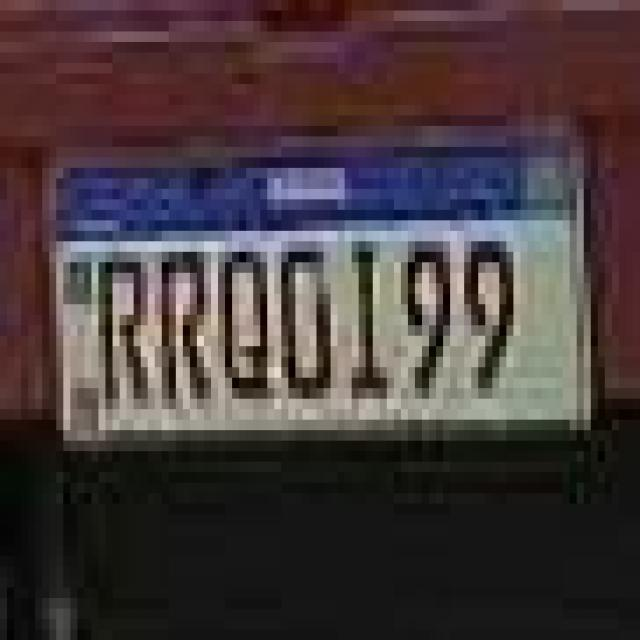0: (277, 242, 338, 404)
9: (397, 233, 458, 408), (463, 232, 518, 404)
I: (345, 232, 393, 411)
Q: (218, 242, 275, 412)
R: (152, 242, 214, 414), (99, 248, 155, 410)
